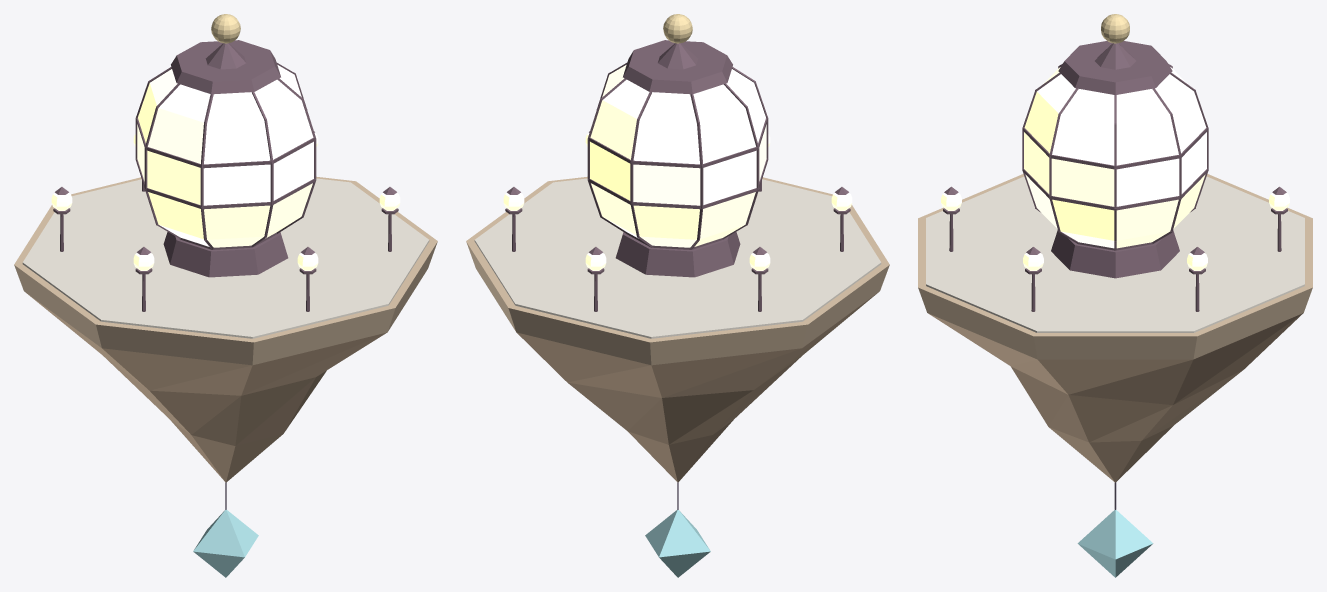
File: models.glb
3 views of the same model, side by side, from view 1: azimuth 30°, elevation 25°; view 2: azimuth 150°, elevation 25°; view 3: azimuth 270°, elevation 25° (orthographic).
Parts seen in each view (by area): view 1: citadel, core, halo; view 2: citadel, core, halo; view 3: citadel, core, halo.
Part boxes in pixels (<box>): citadel: <box>14,40,437,509</box>; core: <box>193,509,258,577</box>; halo: <box>211,14,240,43</box>; citadel: <box>466,40,889,509</box>; core: <box>645,509,710,577</box>; halo: <box>663,14,692,43</box>; citadel: <box>918,41,1312,509</box>; core: <box>1077,510,1153,577</box>; halo: <box>1101,14,1129,43</box>.
Bounding box in the file's own units: 15.89 × 24.98 × 15.89.
